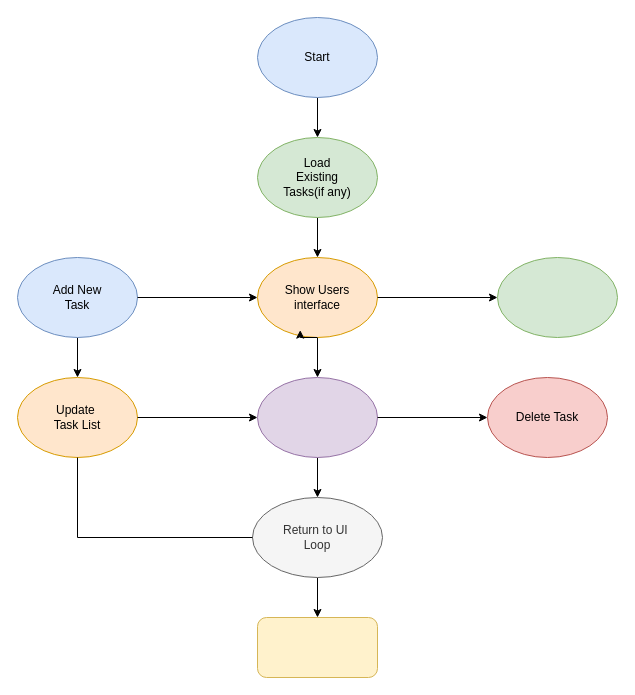
This 635x695 diagram has some shape labels left out. The shapes that lost their labels are listed below. From the top down, each one's centre as x and y in pixels, then its label:
At (x=557, y=297): "View Tasks".
At (x=317, y=417): "Optional Actions".
At (x=317, y=647): "User Exists".
